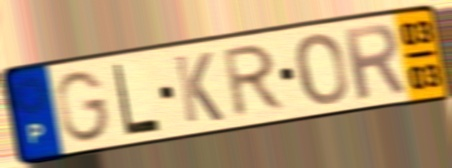G: (54, 68, 113, 145)
K: (171, 50, 226, 126)
L: (111, 60, 163, 138)
O: (293, 31, 351, 109)
R: (339, 20, 409, 103), (221, 40, 288, 121)
